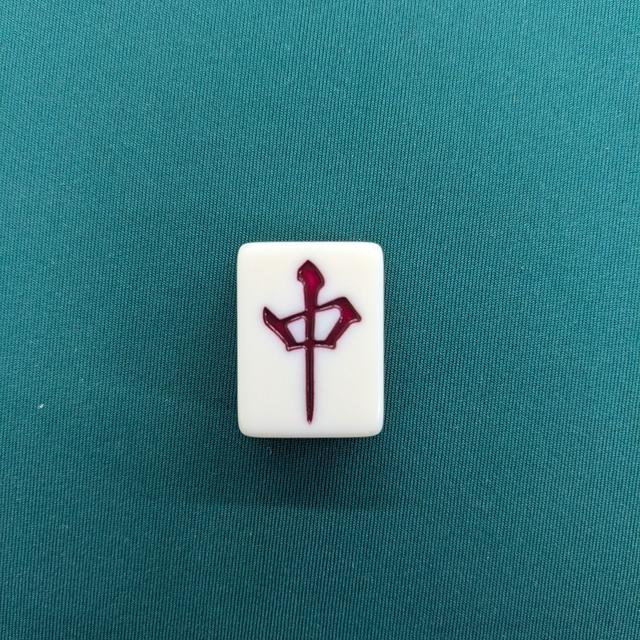tyun: (234, 241, 388, 438)
